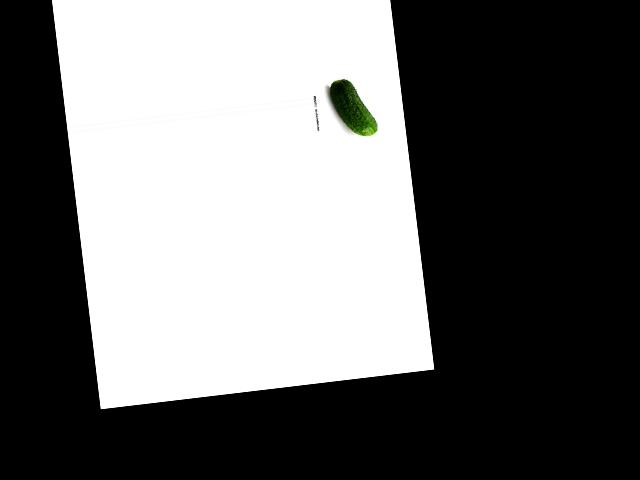cucumber: (328, 75, 378, 139)
